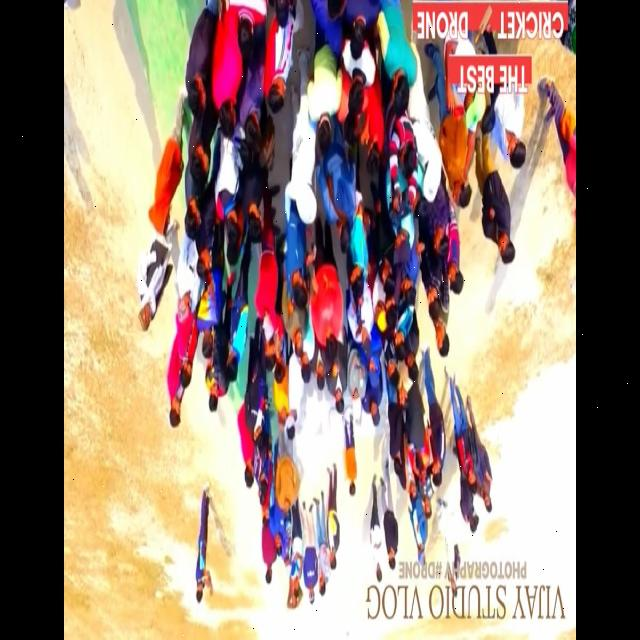humans: (135, 220, 177, 346), (306, 32, 342, 164), (381, 7, 421, 120), (213, 0, 242, 150), (472, 182, 519, 272), (312, 222, 342, 362), (449, 368, 478, 499), (184, 0, 212, 132), (438, 108, 471, 219), (493, 86, 532, 179), (421, 348, 447, 487), (321, 164, 357, 258), (263, 15, 296, 117), (238, 154, 272, 250), (283, 193, 310, 310), (242, 320, 266, 451), (193, 471, 215, 612), (214, 134, 241, 244), (379, 454, 400, 580), (274, 433, 302, 522), (170, 235, 197, 327), (386, 115, 418, 189), (341, 59, 379, 120), (229, 0, 269, 57), (374, 201, 397, 296), (367, 474, 386, 588), (349, 0, 380, 69), (340, 411, 361, 509), (324, 458, 341, 578), (241, 66, 264, 154), (386, 382, 406, 480), (314, 487, 331, 601), (384, 211, 416, 270), (302, 488, 318, 606), (406, 499, 430, 574), (446, 219, 467, 304), (185, 125, 212, 191), (419, 267, 447, 327), (476, 435, 496, 515), (235, 423, 256, 496), (349, 219, 367, 302), (281, 307, 310, 357), (182, 178, 204, 242), (289, 512, 304, 601), (428, 211, 451, 268), (257, 526, 276, 591), (396, 258, 419, 311), (192, 234, 213, 288), (429, 317, 450, 368), (255, 452, 274, 508), (348, 362, 366, 420), (269, 510, 287, 564), (460, 490, 479, 540), (354, 306, 372, 358), (390, 312, 408, 361), (364, 388, 383, 431), (405, 341, 421, 388), (270, 0, 291, 34), (383, 290, 398, 335), (420, 482, 436, 524), (365, 344, 378, 392), (331, 376, 346, 416), (402, 473, 418, 508)
